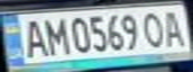0: (66, 14, 90, 54)
5: (87, 12, 109, 53)
6: (106, 11, 127, 52)
9: (121, 11, 145, 51)
A: (157, 7, 190, 48), (18, 16, 48, 58)
M: (39, 15, 69, 56)
O: (139, 9, 172, 48)
